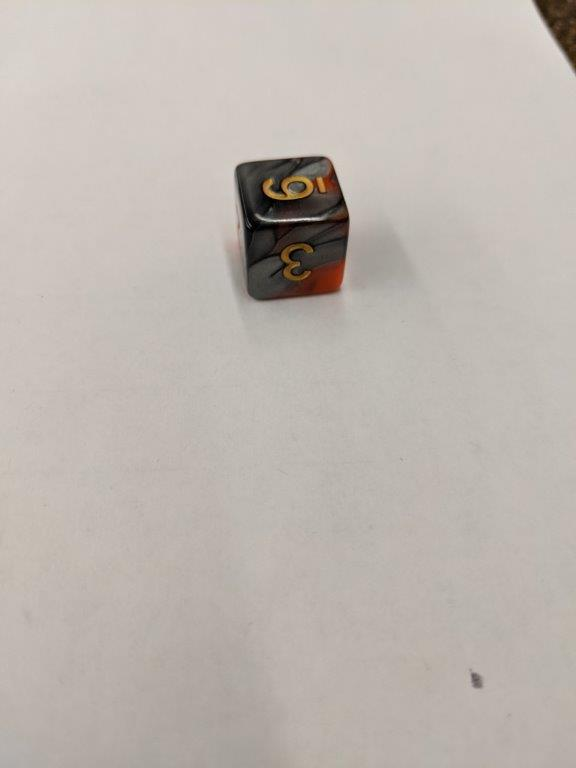d6-6: (236, 153, 353, 304)
